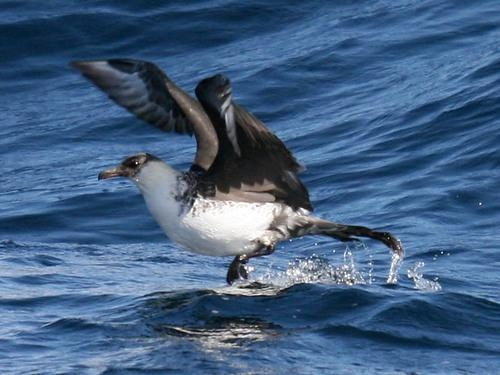bird: (68, 58, 404, 290)
